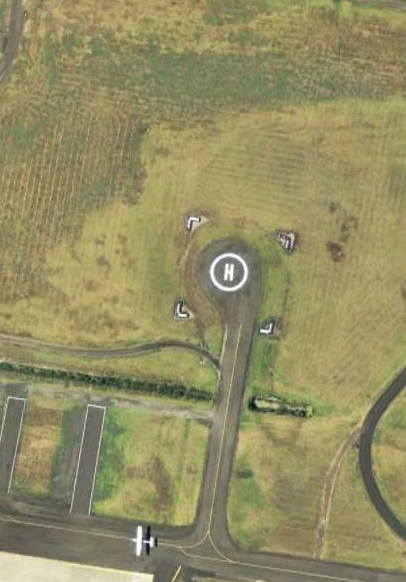heliport: (221, 260, 236, 283)
